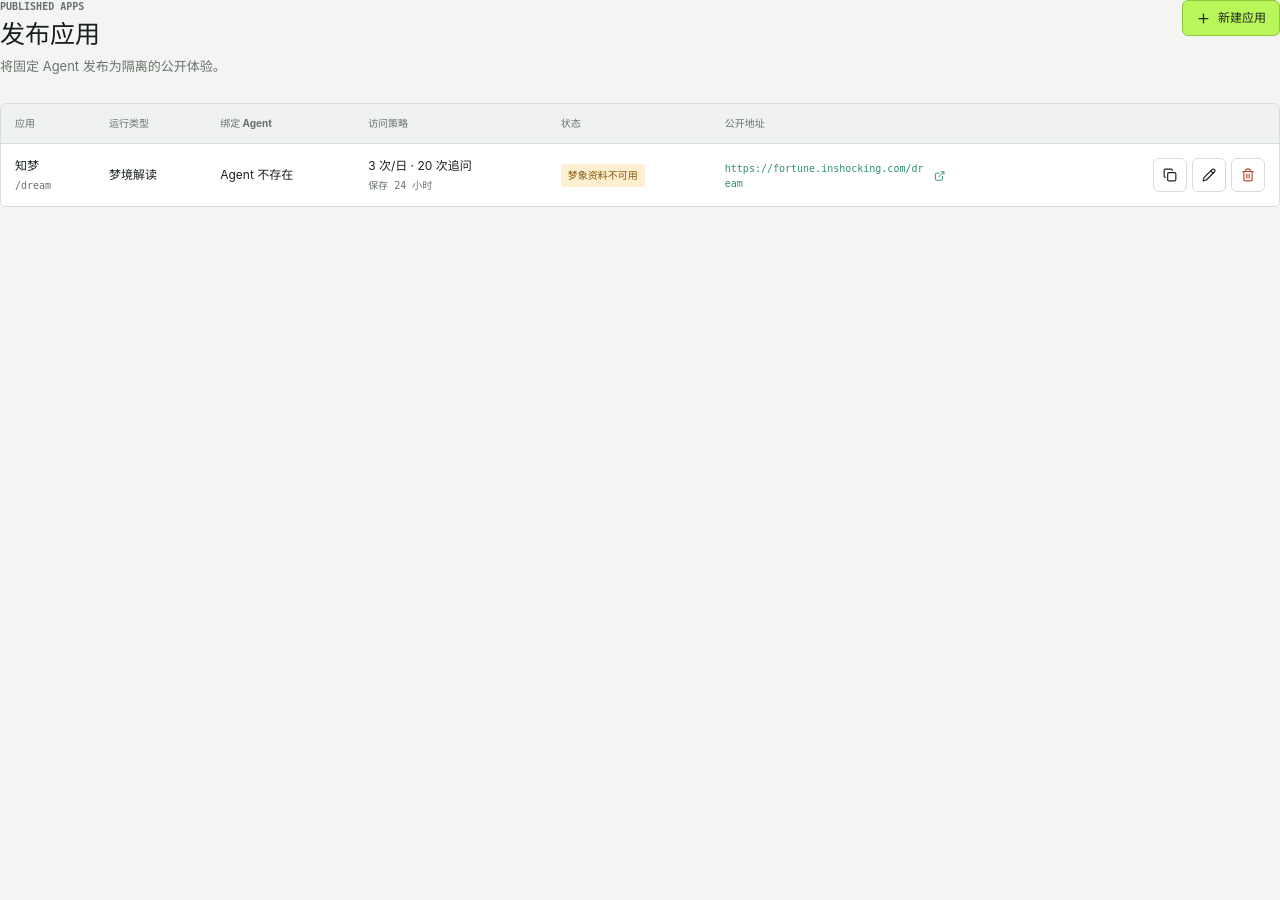
Test: AppsView › shows dream adapter health and locks the adapter for builtin apps
Click the button titled "编辑" at point(1209, 175), box [1192,158,1226,192]
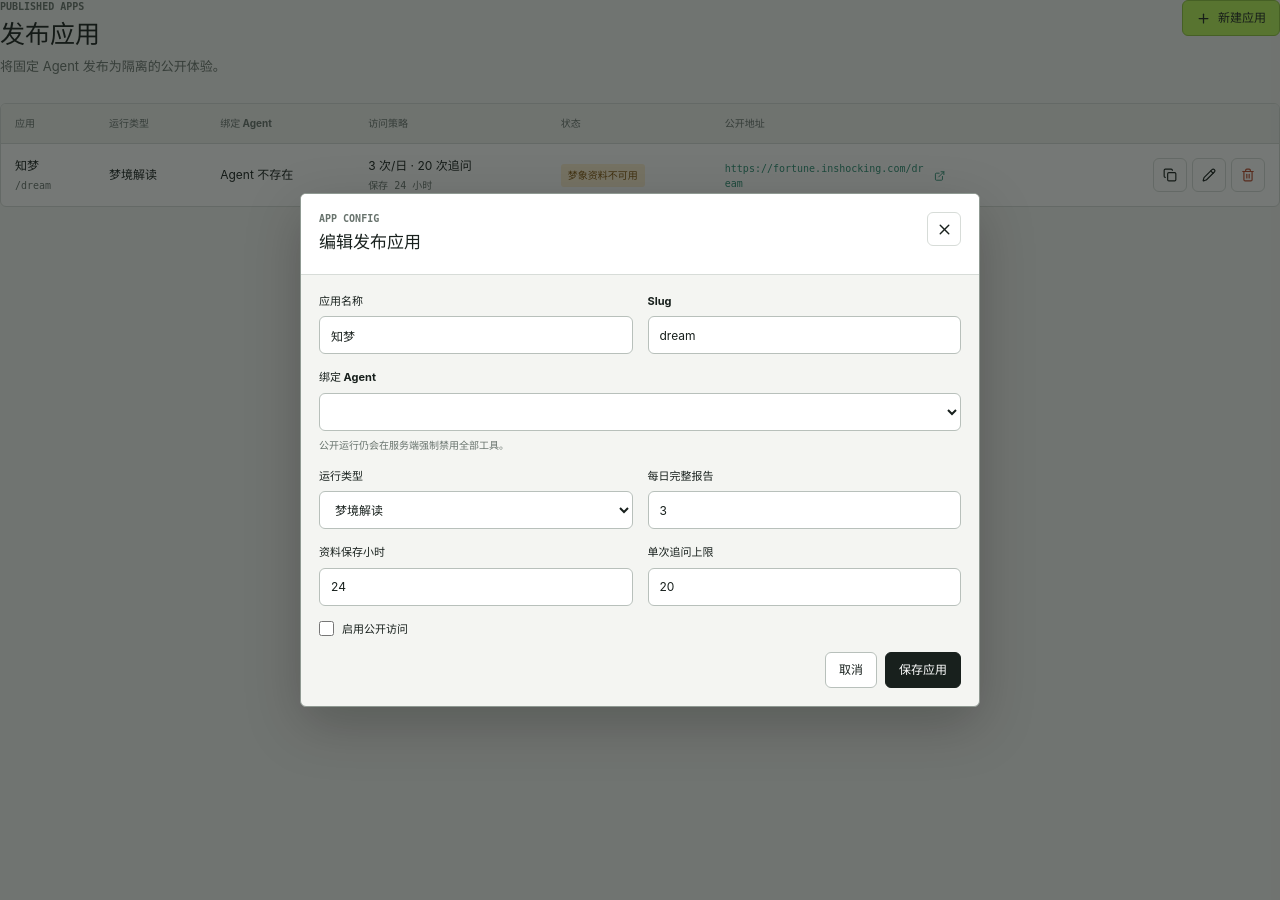
Result: the dropdown with id "app-adapter" shows "梦境解读" at [319,491,632,529]
Result: the dropdown with id "app-adapter" is disabled at [319,491,632,529]
